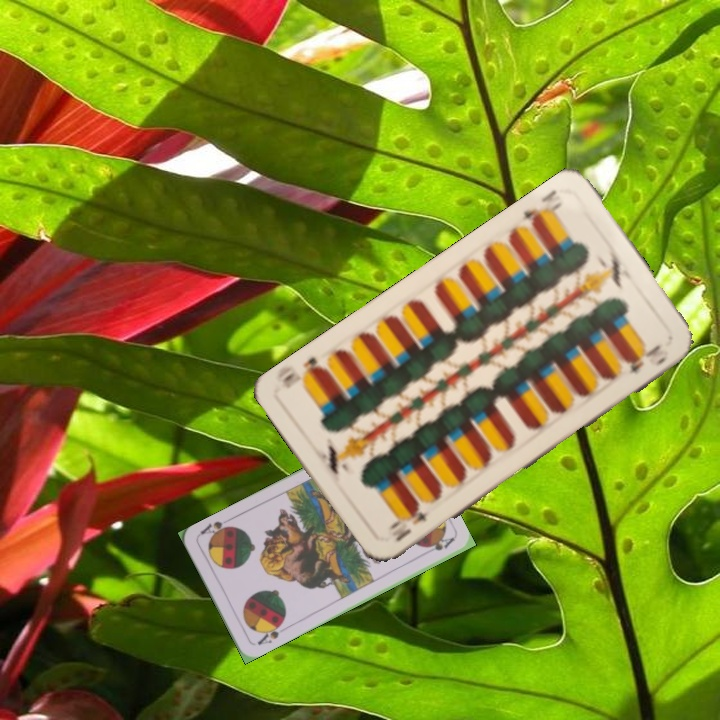E10: (518, 185, 565, 230), (390, 501, 434, 545)
SA: (253, 618, 286, 648)
